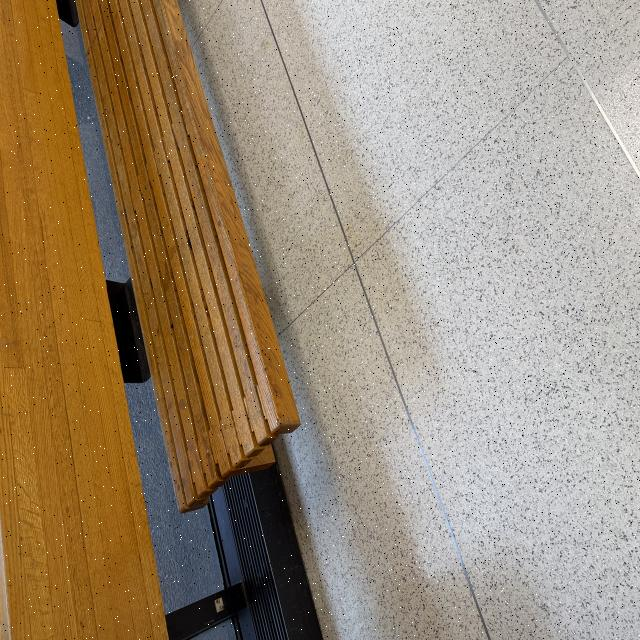Bench: (79, 20, 480, 383)
